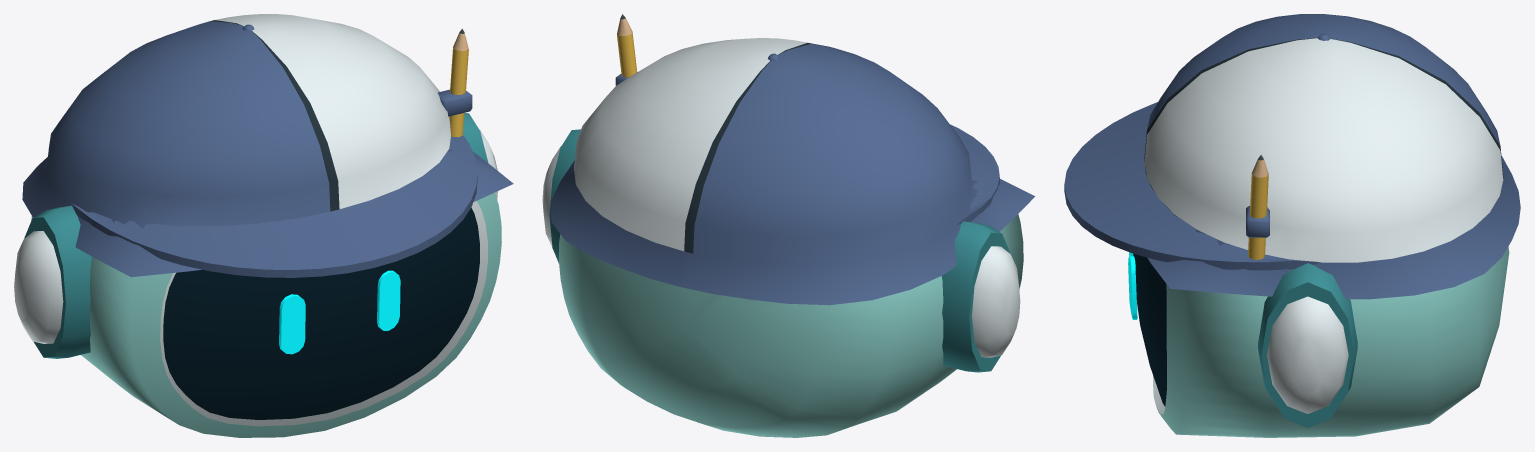
The model's file is copilot_analyst_v01.glb.
The picture shows the model from 3 angles, left to right: view 1: azimuth 30°, elevation 25°; view 2: azimuth 150°, elevation 25°; view 3: azimuth 270°, elevation 25°; orthographic projection. The views are drawn at different scales.
Visible parts, largest first — view 1: analyst_model; view 2: analyst_model; view 3: analyst_model.
Part boxes in pixels (x1,y1,x2,y2): analyst_model: (14,14,513,437); analyst_model: (542,14,1034,437); analyst_model: (1064,14,1520,437).
Bounding box in the file's own units: 2.82 × 2.02 × 2.29.
Materials: 2 (2 with a texture image).
